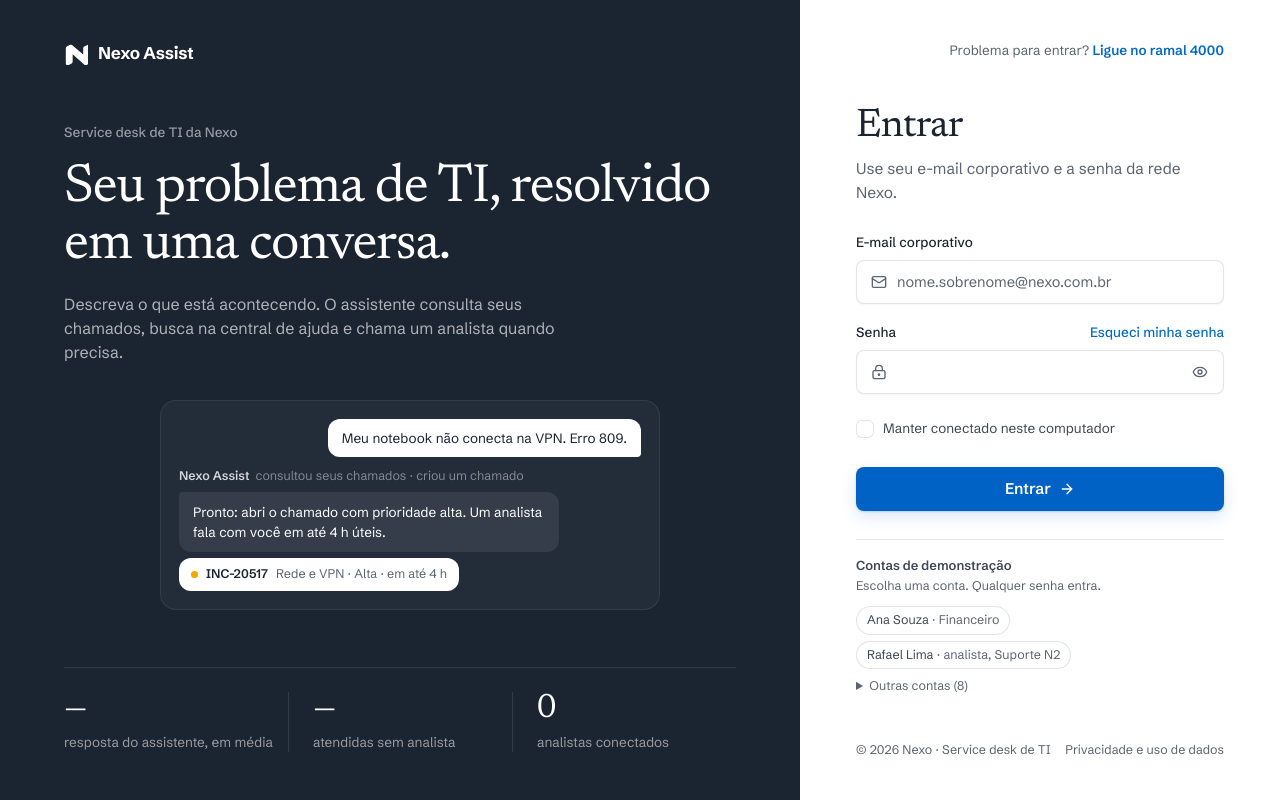
Test: tela de login (RF01, tela 1) › A22: escolher uma conta de demonstração preenche o e-mail e leva o foco à senha
Click the button "Rafael Lima · analista, Suporte N2" at (964, 655), box [856,641,1071,669]
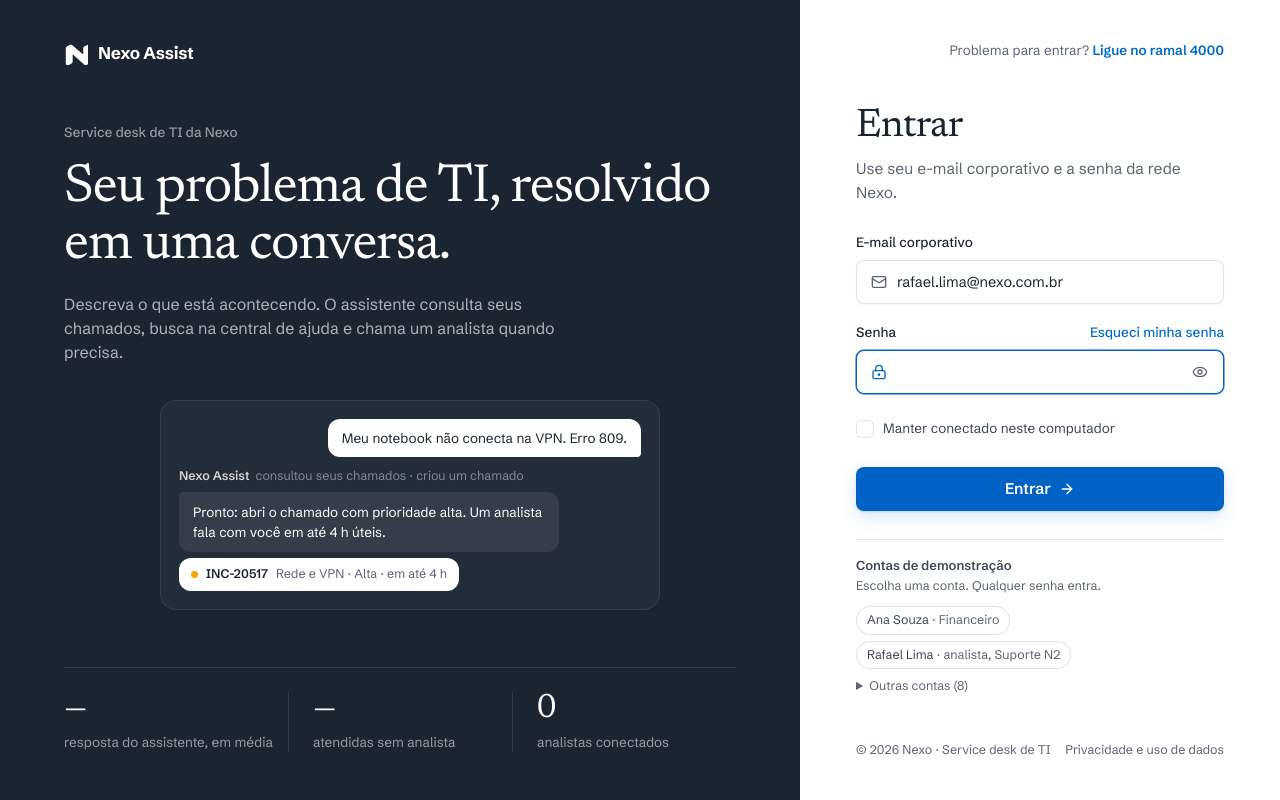
Expected: the field labelled "E-mail corporativo" holds "rafael.lima@nexo.com.br", [897,261,1215,303]
